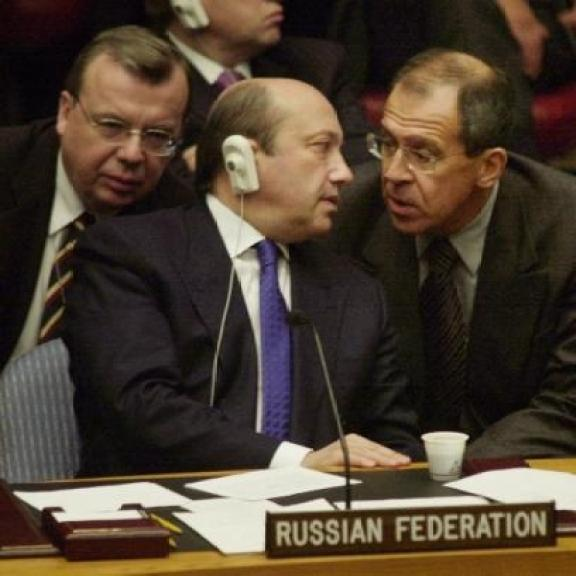face: (374, 76, 508, 250), (52, 58, 197, 218), (254, 82, 357, 248)
